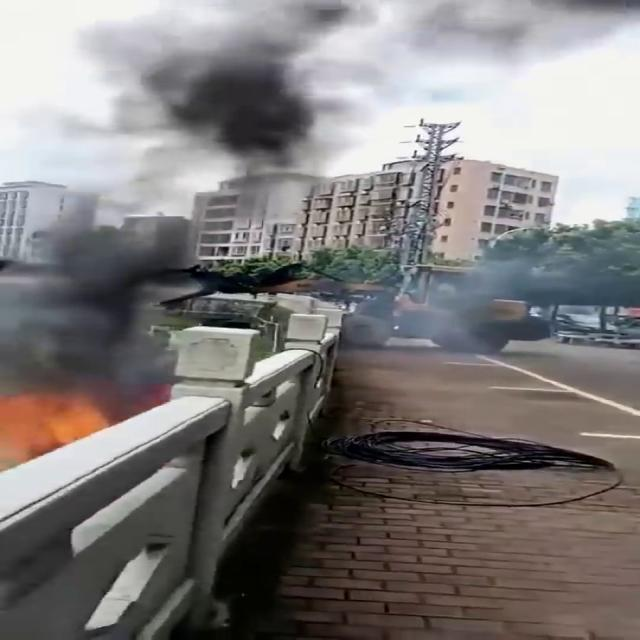Fire: (0, 385, 120, 463)
Smoke: (0, 0, 401, 328)
